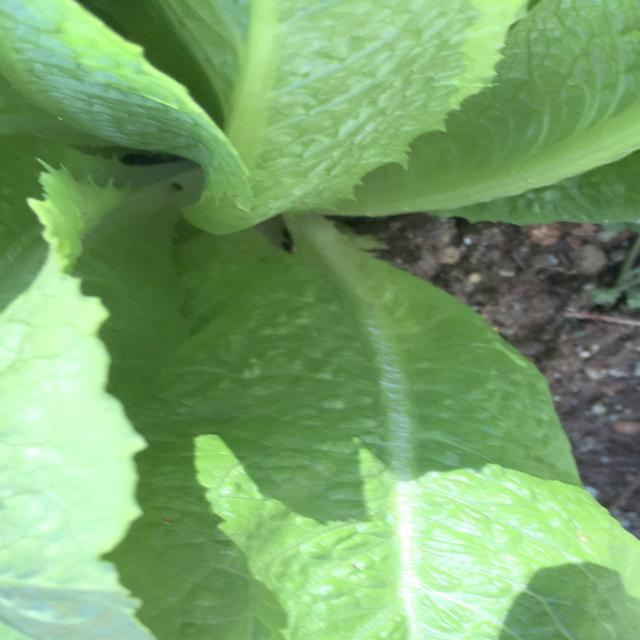Healthy Lettuce: (4, 3, 636, 636)
